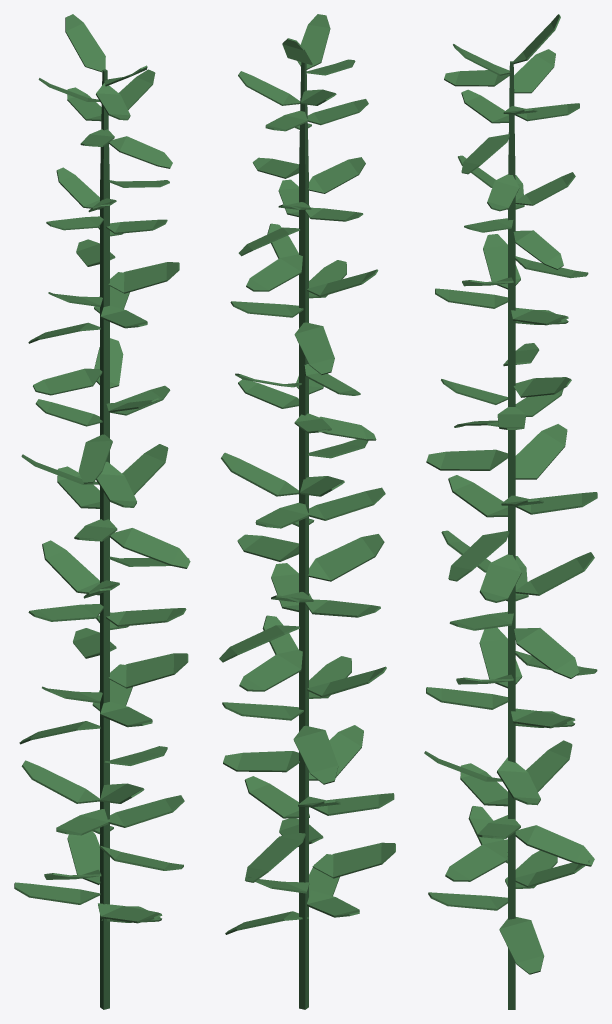
File: Seaweed_001.glb
The picture shows the model from 3 angles, left to right: view 1: azimuth 30°, elevation 25°; view 2: azimuth 150°, elevation 25°; view 3: azimuth 270°, elevation 25°; orthographic projection.
Parts seen in each view (by area): view 1: Seaweed_001; view 2: Seaweed_001; view 3: Seaweed_001.
Boxes of the visible parts, x1,y1,x2,y2 form: Seaweed_001: (14,14,190,1009); Seaweed_001: (219,14,395,1009); Seaweed_001: (424,14,597,1009).
Bounding box in the file's own units: 0.5282 × 3.31 × 0.5267.
1 material, 1 textured.
